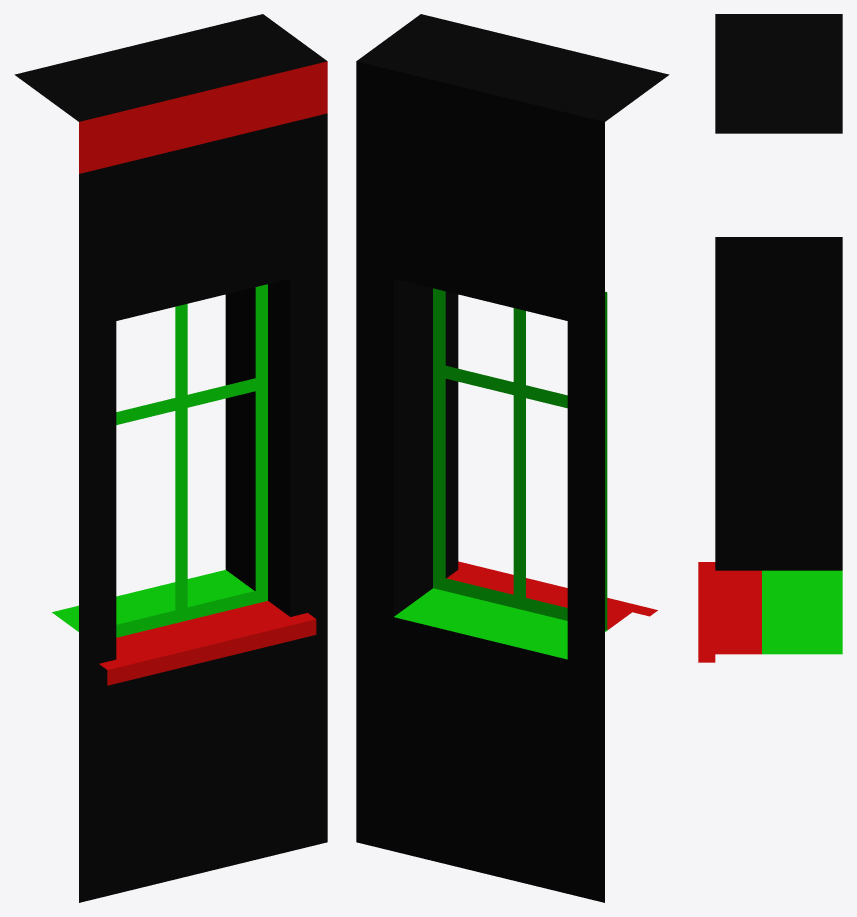
Rendered from ext_window.glb.
3 views of the same model, side by side, from view 1: azimuth 30°, elevation 25°; view 2: azimuth 150°, elevation 25°; view 3: azimuth 270°, elevation 25° (orthographic).
Visible parts, largest first — view 1: ext_window; view 2: ext_window; view 3: ext_window.
Part boxes in pixels (x1,y1,x2,y2): ext_window: (14, 14, 327, 902); ext_window: (356, 14, 669, 902); ext_window: (698, 14, 842, 662).
Bounding box in the file's own units: 1 × 3 × 0.51.
